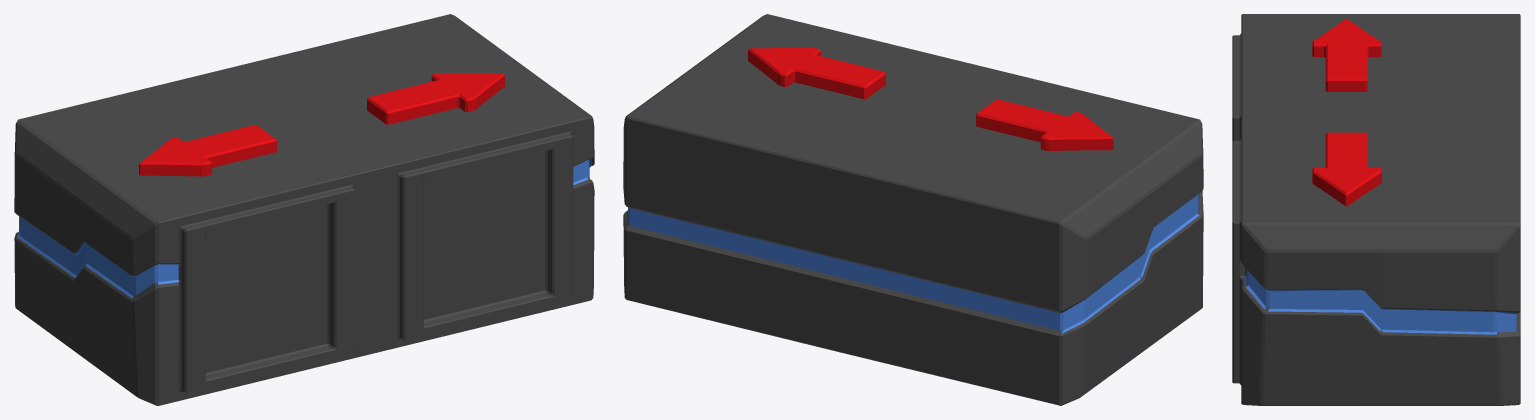
The model's file is ControlTable.fbx.
3 renders of one model, left to right at view 1: azimuth 30°, elevation 25°; view 2: azimuth 150°, elevation 25°; view 3: azimuth 270°, elevation 25°, orthographic.
Parts seen in each view (by area): view 1: CannonControlPanel; view 2: CannonControlPanel; view 3: CannonControlPanel.
Boxes of the visible parts, x1,y1,x2,y2 form: CannonControlPanel: [14, 14, 594, 405]; CannonControlPanel: [623, 14, 1203, 405]; CannonControlPanel: [1232, 14, 1520, 405].
Size of the model in its own units: 441 by 179 by 241.
